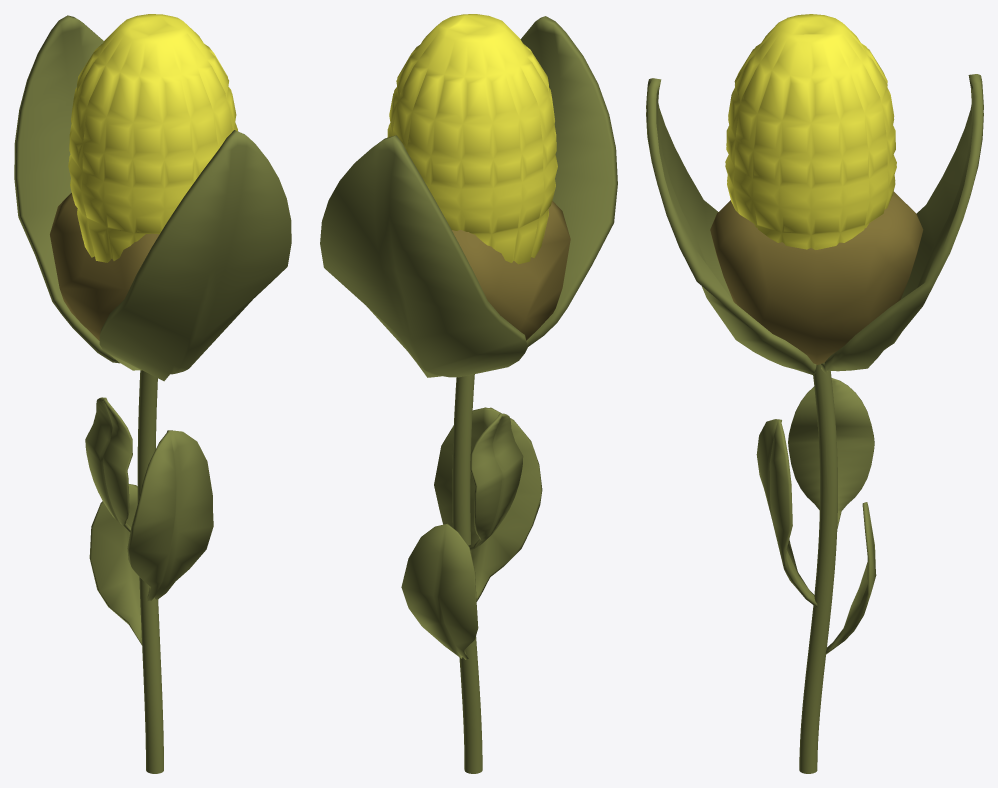
Rendered from 2ºFase_Maiz.fbx.
3 views of the same model, side by side, from view 1: azimuth 30°, elevation 25°; view 2: azimuth 150°, elevation 25°; view 3: azimuth 270°, elevation 25° (orthographic).
Parts seen in each view (by area): view 1: Cylinder, Circle.003, Circle.004, Circle.001, Cube, NurbsPath, Circle, Circle.002; view 2: Cylinder, Circle.004, Circle.003, Circle, Cube, Circle.001, NurbsPath, Circle.002; view 3: Cylinder, Cube, Circle.004, Circle.003, NurbsPath, Circle.002, Circle.001, Circle.
Boxes of the visible parts, box(x1,y1,x2,y2) form: Cylinder: box(68, 14, 237, 262); Circle.003: box(99, 130, 291, 381); Circle.004: box(14, 15, 119, 363); Circle.001: box(127, 430, 213, 601); Cube: box(50, 193, 159, 340); NurbsPath: box(137, 370, 163, 773); Circle: box(89, 484, 141, 644); Circle.002: box(85, 397, 132, 532); Cylinder: box(387, 14, 557, 264); Circle.004: box(320, 135, 527, 377); Circle.003: box(520, 16, 617, 346); Circle: box(401, 523, 478, 659); Cube: box(452, 201, 570, 340); Circle.001: box(434, 407, 542, 601); NurbsPath: box(452, 374, 482, 773); Circle.002: box(468, 413, 523, 550); Cylinder: box(725, 14, 896, 249); Cube: box(710, 191, 923, 365); Circle.004: box(821, 74, 983, 374); Circle.003: box(646, 78, 816, 375); NurbsPath: box(799, 364, 837, 773); Circle.002: box(788, 378, 874, 528); Circle.001: box(756, 419, 817, 607); Circle: box(825, 502, 876, 654).
Size of the model in its own units: 105 by 433 by 178.
